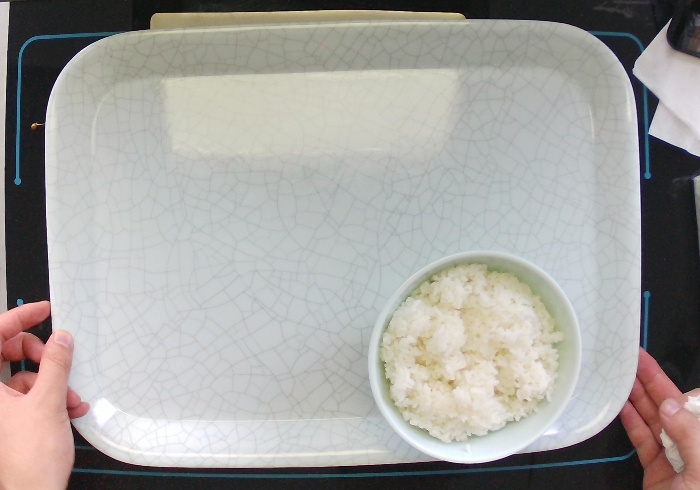JYsf-Fan_Wan: (363, 244, 586, 468)
